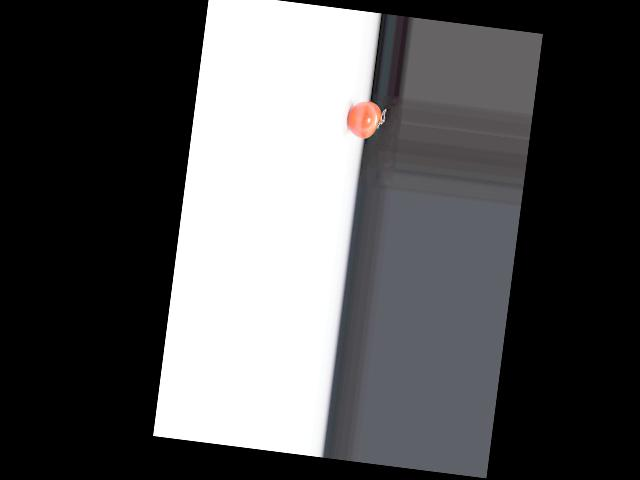tomato: (345, 99, 382, 140)
